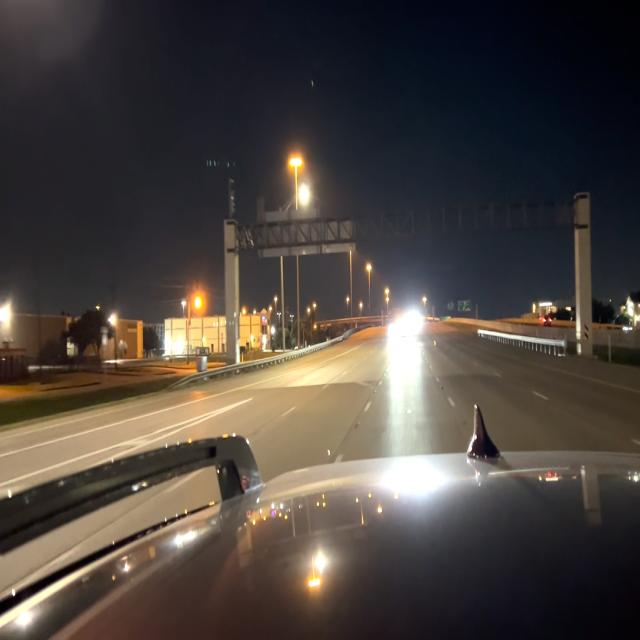back-of-sign: (257, 212, 356, 255)
